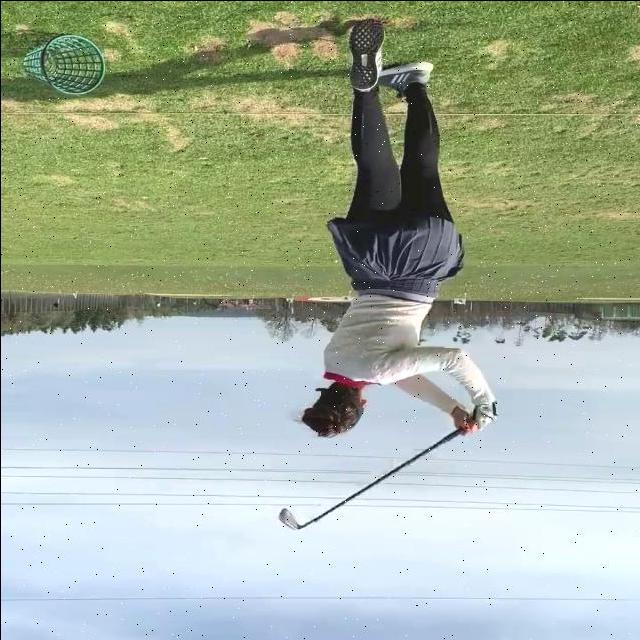ClubHandle: (278, 426, 464, 530)
ClubHead: (278, 505, 299, 529)
